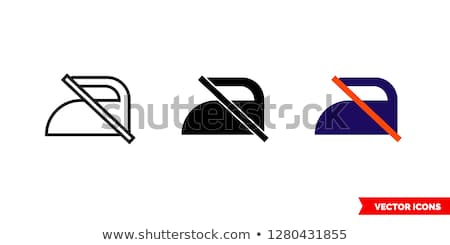do_not_bleach: (23, 43, 183, 165)
